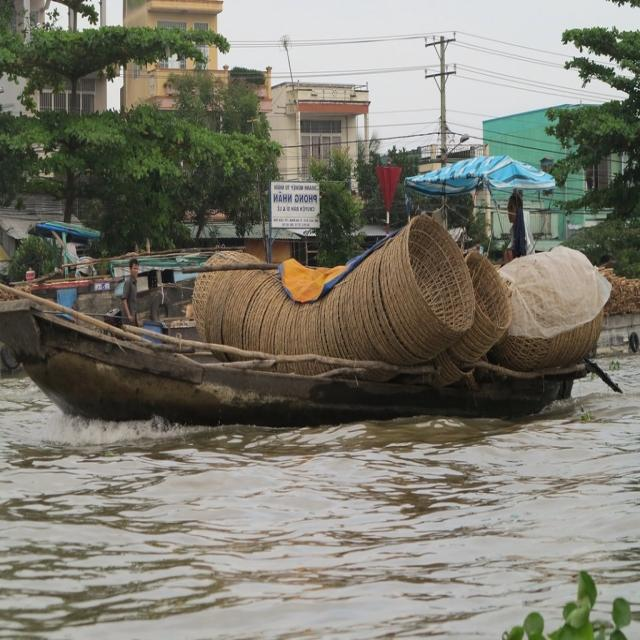boat: (6, 263, 596, 428)
